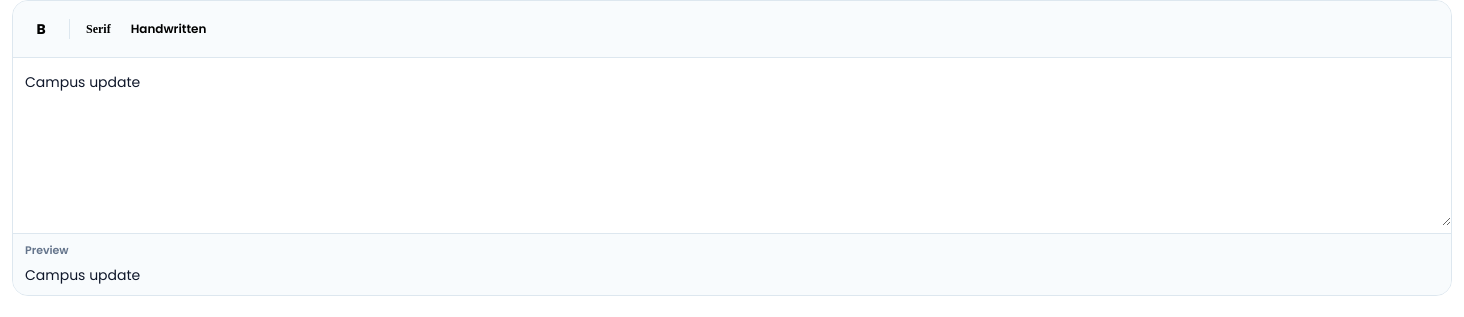
RichText › formats selected text and previews it without HTML injection
Click the button named "Bold selected text": coordinates (41, 29) [21,9,61,49]
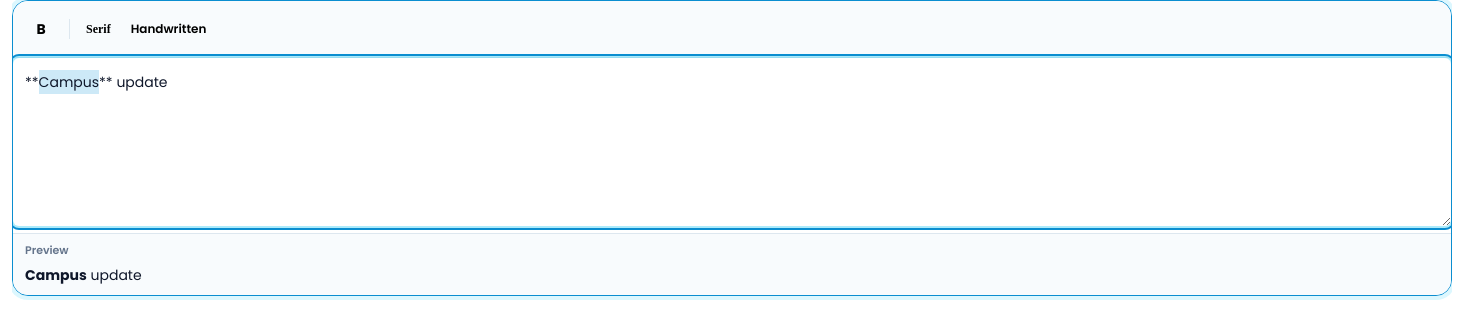
Expected: the text "Campus" is shown, [25,264,87,284]
Now the text box holds "**Campus** update", box [13,58,1451,226]
